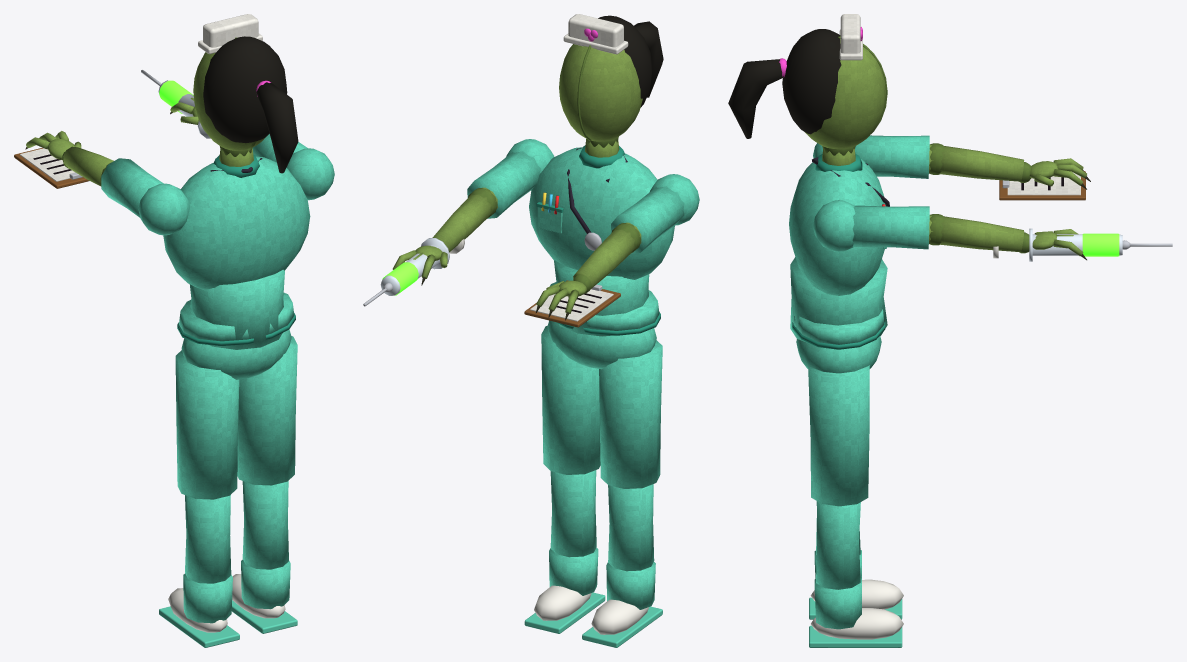
The model's file is z_nurse.glb.
The picture shows the model from 3 angles, left to right: view 1: azimuth 30°, elevation 25°; view 2: azimuth 150°, elevation 25°; view 3: azimuth 270°, elevation 25°; orthographic projection.
Visible parts, largest first — view 1: part_body, part_head, part_legL, part_kneeL, part_kneeR, part_legR, part_armL, part_arm; view 2: part_body, part_head, part_legL, part_kneeL, part_kneeR, part_armL, part_legR, part_arm; view 3: part_body, part_head, part_arm, part_armL, part_kneeR, part_legR, part_kneeL.
Boxes of the visible parts, bbox=[...] form: part_body: bbox=[138, 148, 334, 379]; part_head: bbox=[193, 14, 298, 173]; part_legL: bbox=[175, 350, 239, 499]; part_kneeL: bbox=[159, 495, 239, 647]; part_kneeR: bbox=[231, 481, 297, 633]; part_legR: bbox=[237, 336, 297, 485]; part_armL: bbox=[14, 131, 163, 217]; part_arm: bbox=[141, 70, 307, 162]; part_body: bbox=[506, 139, 699, 369]; part_head: bbox=[559, 14, 663, 147]; part_legL: bbox=[599, 340, 662, 488]; part_kneeL: bbox=[582, 484, 662, 647]; part_kneeR: bbox=[524, 470, 605, 633]; part_armL: bbox=[524, 186, 684, 327]; part_legR: bbox=[541, 325, 600, 474]; part_arm: bbox=[363, 151, 540, 306]; part_body: bbox=[789, 143, 889, 373]; part_head: bbox=[728, 14, 887, 155]; part_arm: bbox=[852, 205, 1172, 261]; part_armL: bbox=[855, 135, 1090, 200]; part_kneeR: bbox=[809, 501, 903, 647]; part_legR: bbox=[808, 365, 869, 506]; part_kneeL: bbox=[809, 518, 903, 619].
Size of the model in its own units: 0.673 by 1.99 by 1.33.
Materials: 19 (4 with a texture image).
